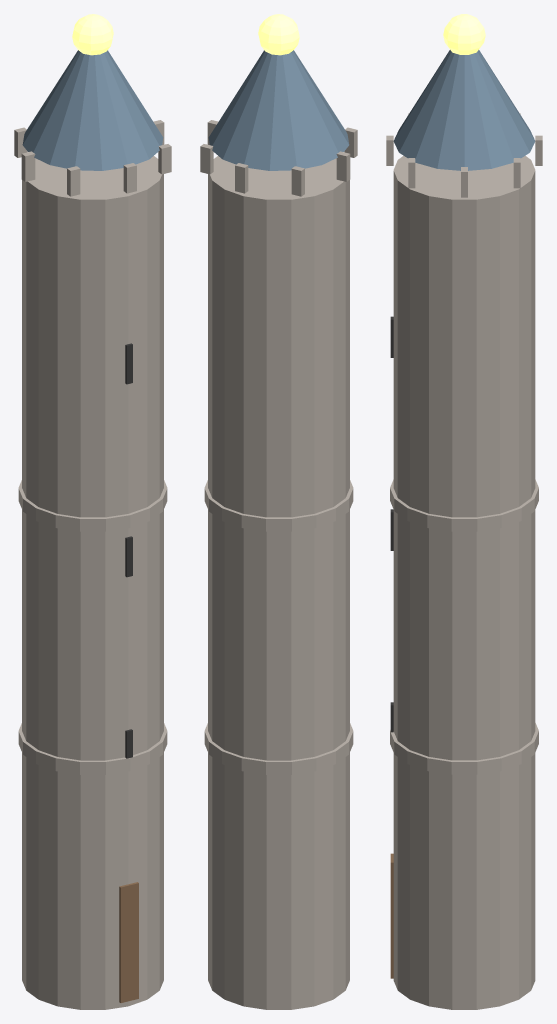
The model's file is Watchtower.fbx.
3 views of the same model, side by side, from view 1: azimuth 30°, elevation 25°; view 2: azimuth 150°, elevation 25°; view 3: azimuth 270°, elevation 25° (orthographic).
Visible parts, largest first — view 1: Watchtower; view 2: Watchtower; view 3: Watchtower.
Part boxes in pixels (x1,y1,x2,y2): Watchtower: (14, 14, 171, 1009); Watchtower: (200, 14, 357, 1009); Watchtower: (386, 14, 542, 1009).
Size of the model in its own units: 2.26 by 15 by 2.2.
